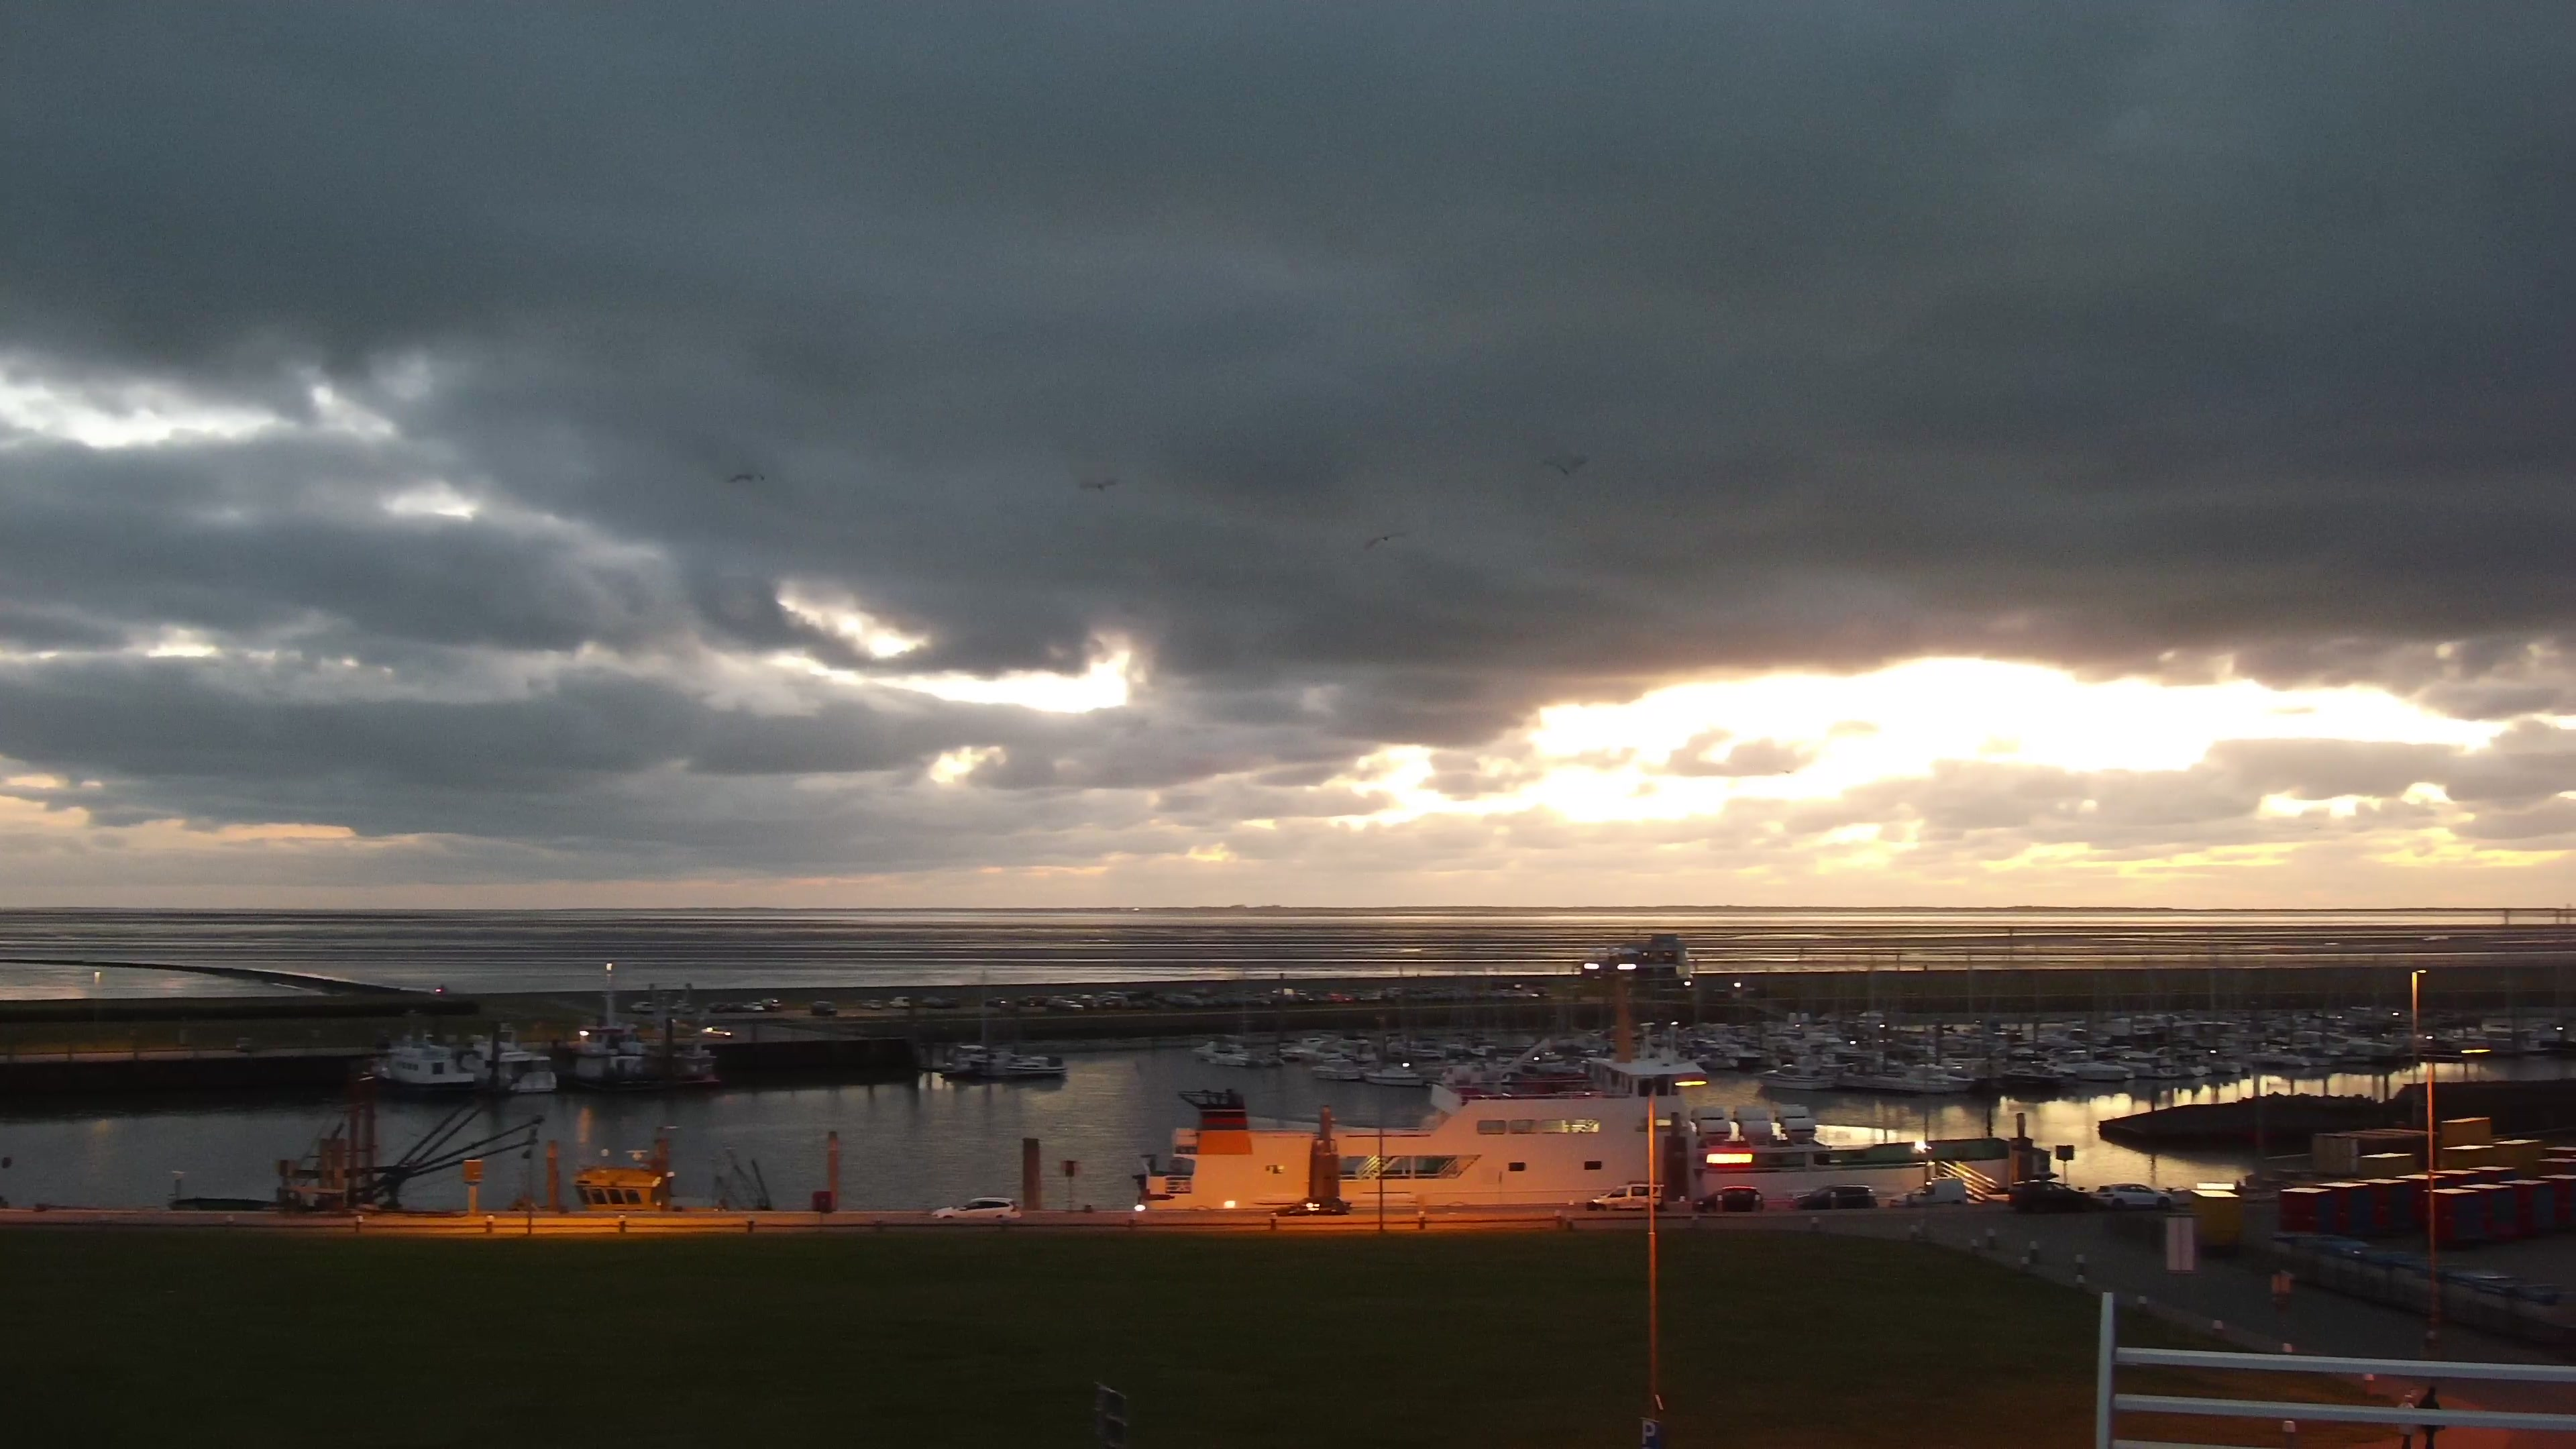human: (2418, 1385, 2442, 1448), (2396, 1393, 2416, 1448)
land: (2007, 1179, 2092, 1213), (2090, 1182, 2174, 1210), (1790, 1184, 1878, 1210), (1584, 1181, 1663, 1211), (1888, 1177, 1968, 1205), (931, 1196, 1022, 1219), (1692, 1185, 1764, 1211), (1269, 1195, 1346, 1216), (920, 994, 961, 1010), (1016, 994, 1051, 1008), (809, 1000, 839, 1016), (700, 1025, 735, 1039), (724, 1000, 753, 1014), (629, 1000, 654, 1012), (888, 995, 910, 1009), (985, 996, 1008, 1008), (1059, 999, 1084, 1010), (760, 999, 783, 1012), (859, 997, 881, 1009), (674, 1002, 694, 1014), (707, 1002, 726, 1013), (1106, 989, 1122, 1001), (750, 1001, 766, 1012), (1297, 989, 1307, 996)
sea: (1130, 973, 2059, 1210), (555, 958, 663, 1090), (367, 1008, 475, 1090), (456, 1020, 557, 1093), (1207, 961, 1266, 1065), (1837, 1056, 1975, 1097), (2047, 1048, 2130, 1081), (1751, 1059, 1837, 1092), (668, 1038, 720, 1088), (1996, 1059, 2077, 1086), (1362, 1056, 1426, 1089), (2113, 1052, 2180, 1079), (1003, 1055, 1067, 1077), (1310, 1056, 1363, 1085), (2246, 1044, 2311, 1066), (950, 1044, 992, 1067), (1131, 907, 1139, 912)
